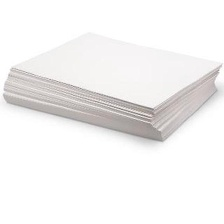book: (0, 24, 224, 144)
